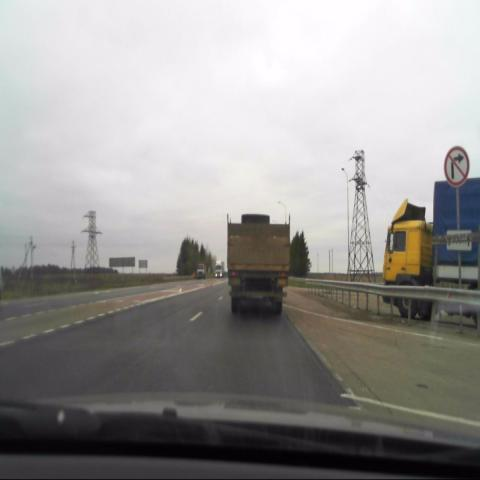3_18: (444, 144, 469, 189)
